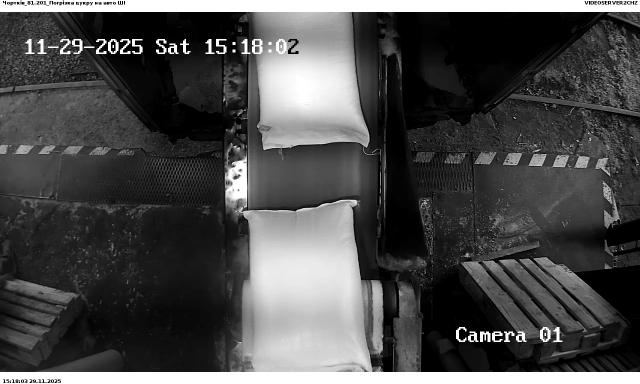bag: (244, 199, 374, 372), (251, 12, 370, 153)
